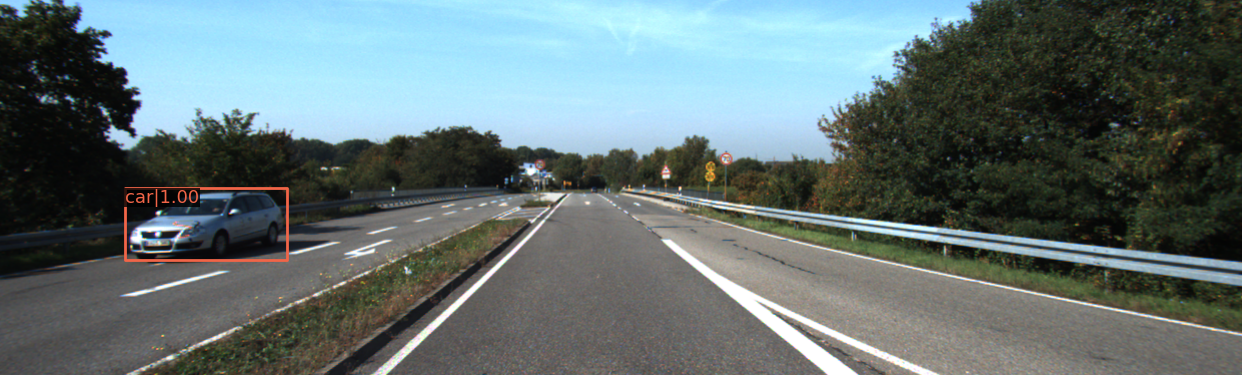car: (120, 191, 290, 261)
